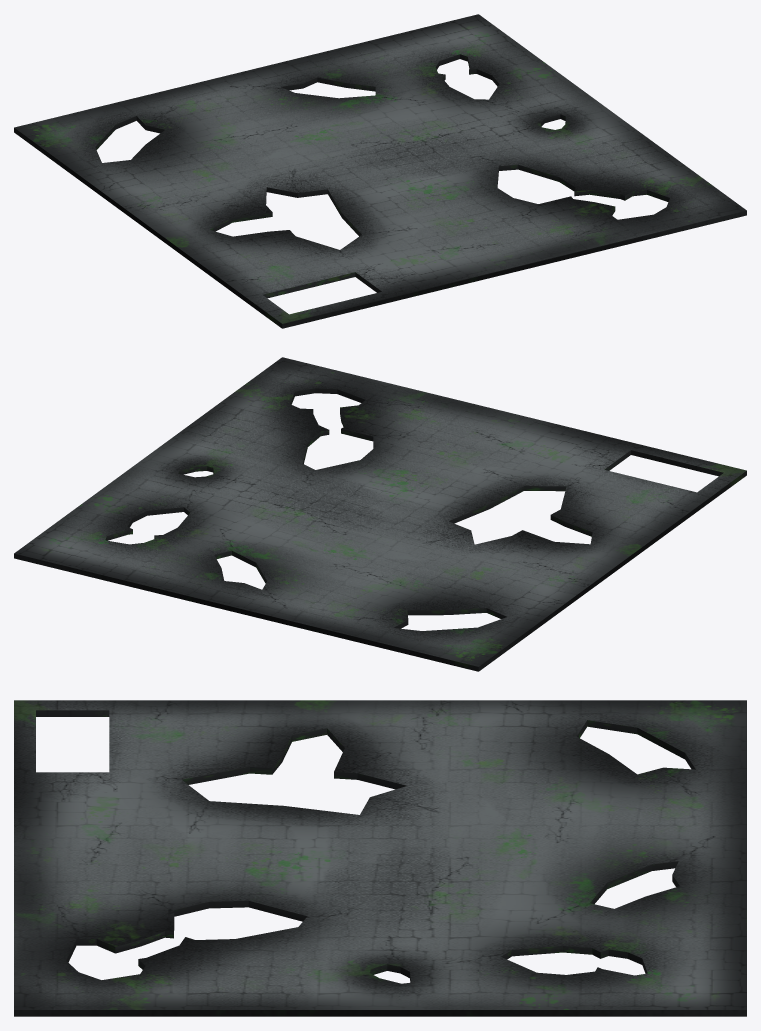
The model's file is Floor 4.fbx.
3 renders of one model, top to bottom at view 1: azimuth 30°, elevation 25°; view 2: azimuth 150°, elevation 25°; view 3: azimuth 270°, elevation 25°, orthographic. The views are drawn at different scales.
Parts seen in each view (by area): view 1: Floor 4; view 2: Floor 4; view 3: Floor 4.
Boxes of the visible parts, box(x1,y1,x2,y2) form: Floor 4: box(14, 14, 746, 328); Floor 4: box(14, 357, 746, 671); Floor 4: box(14, 700, 746, 1016).
Bounding box in the file's own units: 2000 × 20 × 2000.
